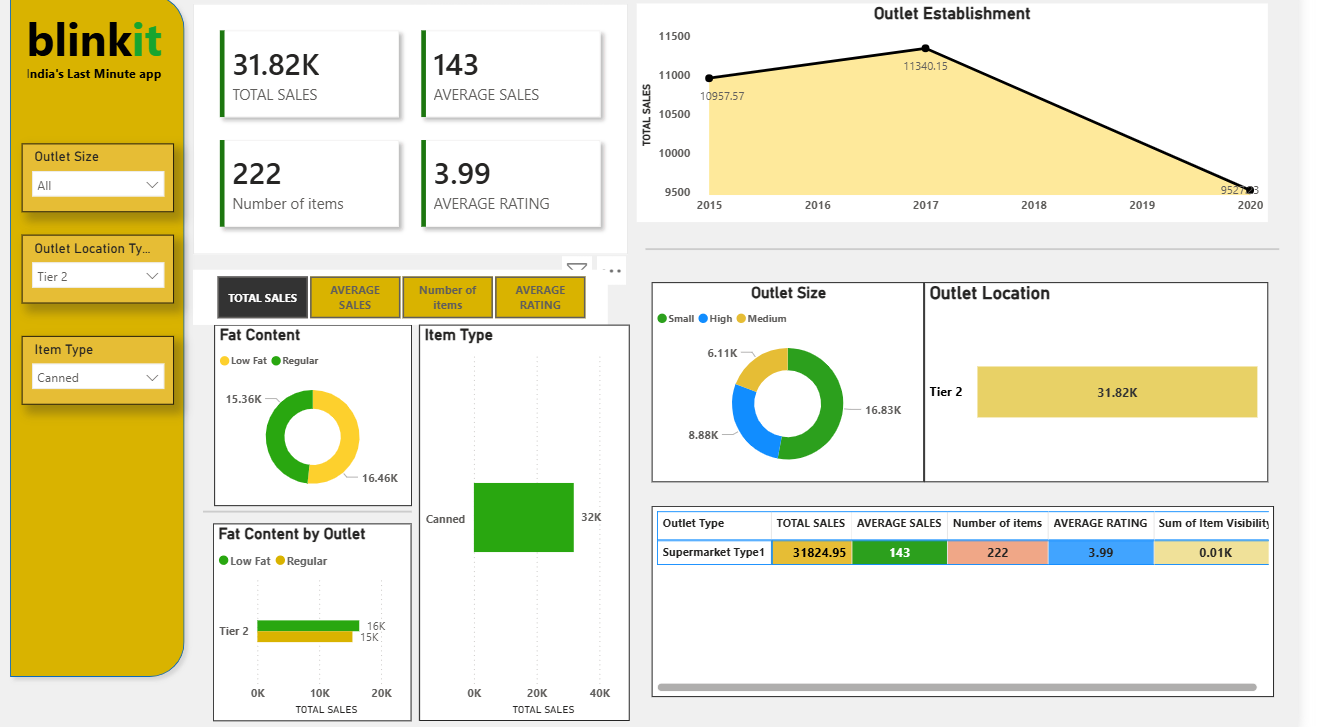

The page's visual inventory and layout, read from the dashboard file:
{"tool":"powerbi","page":{"name":"Page 1","canvas":[1400,800],"ordinal":0},"visuals":[{"type":"shape","box":[10,0,205,750],"z":0},{"type":"textbox","box":[30.8,79.1,155.5,33.5],"z":1000},{"type":"textbox","box":[30.8,18.8,163.5,77.7],"z":2000},{"type":"cardVisual","fields":{"Data":["BlinkIT Grocery Data.TOTAL SALES","BlinkIT Grocery Data.AVERAGE SALES","BlinkIT Grocery Data.Number of items","BlinkIT Grocery Data.AVERAGE RATING"]},"box":[214,18.8,466.5,269.4],"z":3000},{"type":"donutChart","title":" Fat Content","fields":{"Y":["BlinkIT Grocery Data.TOTAL SALES"],"Category":["BlinkIT Grocery Data.Item Fat Content"]},"box":[237.3,363.3,211.8,194.4],"z":4000},{"type":"slicer","fields":{"Values":["Metrices.Metrices"]},"box":[214.5,304.3,445,59],"z":5000},{"type":"clusteredBarChart","title":" Fat Content by Outlet","fields":{"Y":["BlinkIT Grocery Data.TOTAL SALES"],"Category":["BlinkIT Grocery Data.Outlet Location Type"],"Series":["BlinkIT Grocery Data.Item Fat Content"]},"box":[235.9,576.4,213.1,211.8],"z":6000},{"type":"shape","box":[225.2,557.6,223.9,12.1],"z":7000},{"type":"shape","box":[447.7,363.3,18.8,424.9],"z":8000},{"type":"clusteredBarChart","title":" Item Type","fields":{"Y":["BlinkIT Grocery Data.TOTAL SALES"],"Category":["BlinkIT Grocery Data.Item Type"]},"box":[457.1,363.3,225.2,424.9],"z":9000},{"type":"lineChart","title":" Outlet Establishment ","fields":{"Y":["BlinkIT Grocery Data.TOTAL SALES"],"Category":["BlinkIT Grocery Data.Outlet Establishment Year"]},"box":[690.4,18.8,676.9,234.6],"z":10000},{"type":"shape","box":[699.7,276.1,679.6,12.1],"z":11000},{"type":"funnel","title":"Outlet Location ","fields":{"Y":["BlinkIT Grocery Data.TOTAL SALES"],"Category":["BlinkIT Grocery Data.Outlet Location Type"]},"box":[998.7,317.7,368.6,214.5],"z":12000},{"type":"pivotTable","fields":{"Rows":["BlinkIT Grocery Data.Outlet Type"],"Values":["BlinkIT Grocery Data.TOTAL SALES","BlinkIT Grocery Data.AVERAGE SALES","BlinkIT Grocery Data.Number of items","BlinkIT Grocery Data.AVERAGE RATING","Sum(BlinkIT Grocery Data.Item Visibility)"]},"box":[706.4,557.6,667.6,205.1],"z":13000},{"type":"donutChart","title":"Outlet Size","fields":{"Y":["BlinkIT Grocery Data.TOTAL SALES"],"Category":["BlinkIT Grocery Data.Outlet Size","BlinkIT Grocery Data.Item Fat Content"]},"box":[706.4,317.7,292.2,214.5],"z":14000},{"type":"slicer","fields":{"Values":["BlinkIT Grocery Data.Outlet Size"]},"box":[30.8,168.9,163.5,73.7],"z":15000},{"type":"slicer","fields":{"Values":["BlinkIT Grocery Data.Outlet Location Type"]},"box":[30.8,266.8,163.5,73.7],"z":16000},{"type":"slicer","fields":{"Values":["BlinkIT Grocery Data.Item Type"]},"box":[30.8,375.3,163.5,73.7],"z":17000}]}

Visuals, with their boxes in screenshot pixels (x1, y1, x2, y2):
shape: region(40, 38, 217, 685)
textbox: region(58, 107, 192, 135)
textbox: region(58, 55, 199, 122)
cardVisual - BlinkIT Grocery Data.TOTAL SALES x BlinkIT Grocery Data.AVERAGE SALES: region(216, 55, 618, 287)
" Fat Content" donutChart: region(236, 352, 419, 519)
slicer - Metrices.Metrices: region(216, 301, 600, 352)
" Fat Content by Outlet" clusteredBarChart: region(235, 535, 419, 718)
shape: region(226, 519, 419, 530)
shape: region(417, 352, 434, 718)
" Item Type" clusteredBarChart: region(426, 352, 620, 718)
" Outlet Establishment " lineChart: region(627, 55, 1211, 257)
shape: region(635, 276, 1221, 287)
"Outlet Location " funnel: region(893, 312, 1211, 497)
pivotTable - BlinkIT Grocery Data.Outlet Type x BlinkIT Grocery Data.TOTAL SALES: region(641, 519, 1216, 696)
"Outlet Size" donutChart: region(641, 312, 893, 497)
slicer - BlinkIT Grocery Data.Outlet Size: region(58, 184, 199, 248)
slicer - BlinkIT Grocery Data.Outlet Location Type: region(58, 268, 199, 332)
slicer - BlinkIT Grocery Data.Item Type: region(58, 362, 199, 426)
